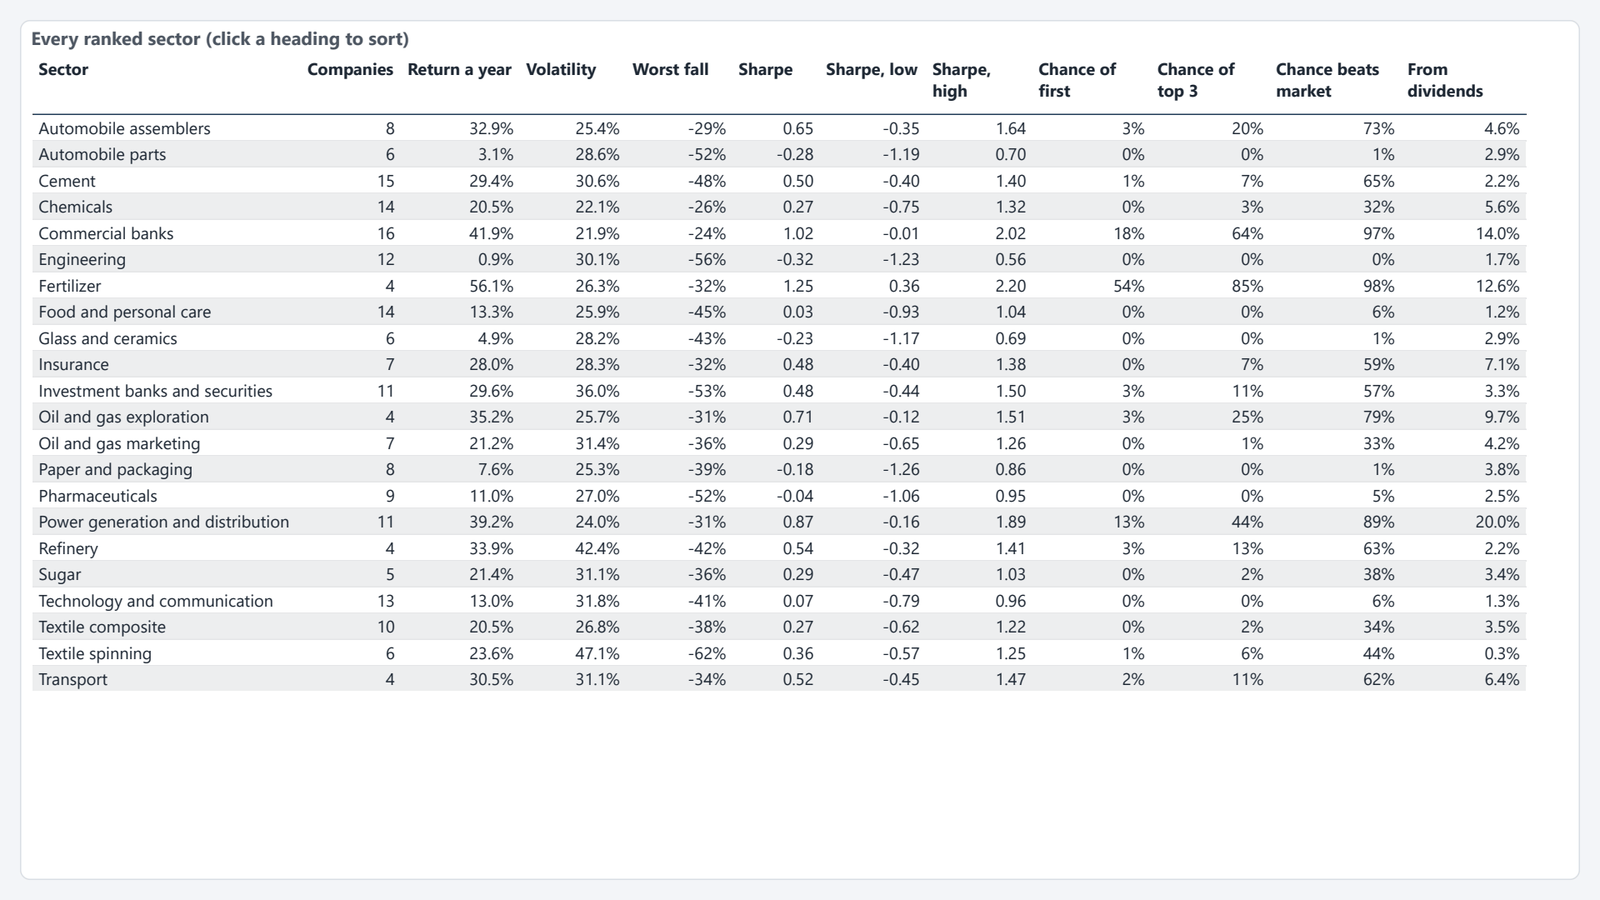

What the dashboard file says about the page in this screenshot:
{"tool":"powerbi","page":{"name":"Sector scorecard","canvas":[1280,720],"ordinal":1},"visuals":[{"type":"tableEx","title":"Every ranked sector (click a heading to sort)","fields":{"Values":["sectors.sector","sectors.n_companies","sectors.cagr","sectors.volatility","sectors.max_drawdown","sectors.sharpe","sectors.sharpe_lo","sectors.sharpe_hi","sectors.p_top1","sectors.p_top3","sectors.p_beats_market","sectors.dividend_points"]},"box":[16,16,1248,688],"z":0}]}

Visuals, with their boxes in screenshot pixels (x1, y1, x2, y2), scaled from the page's 1280x720 canvas onto the 1600x900 screenshot:
"Every ranked sector (click a heading to sort)" tableEx: BBox(20, 20, 1580, 880)
